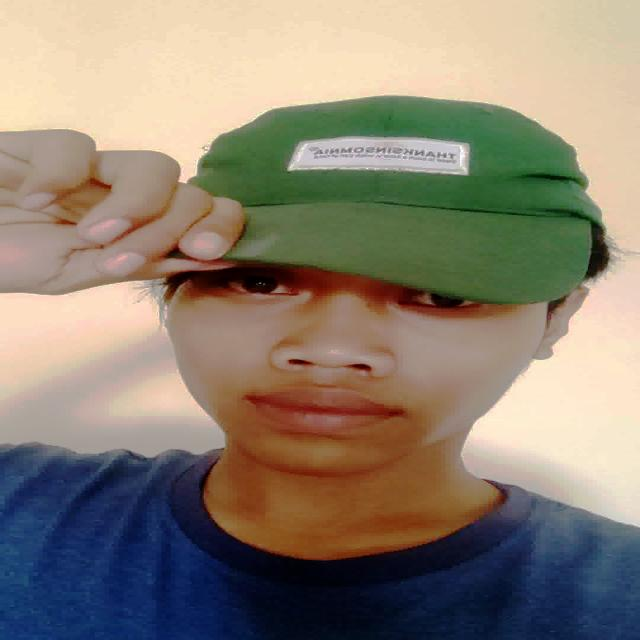TOPI: (152, 90, 608, 306)
